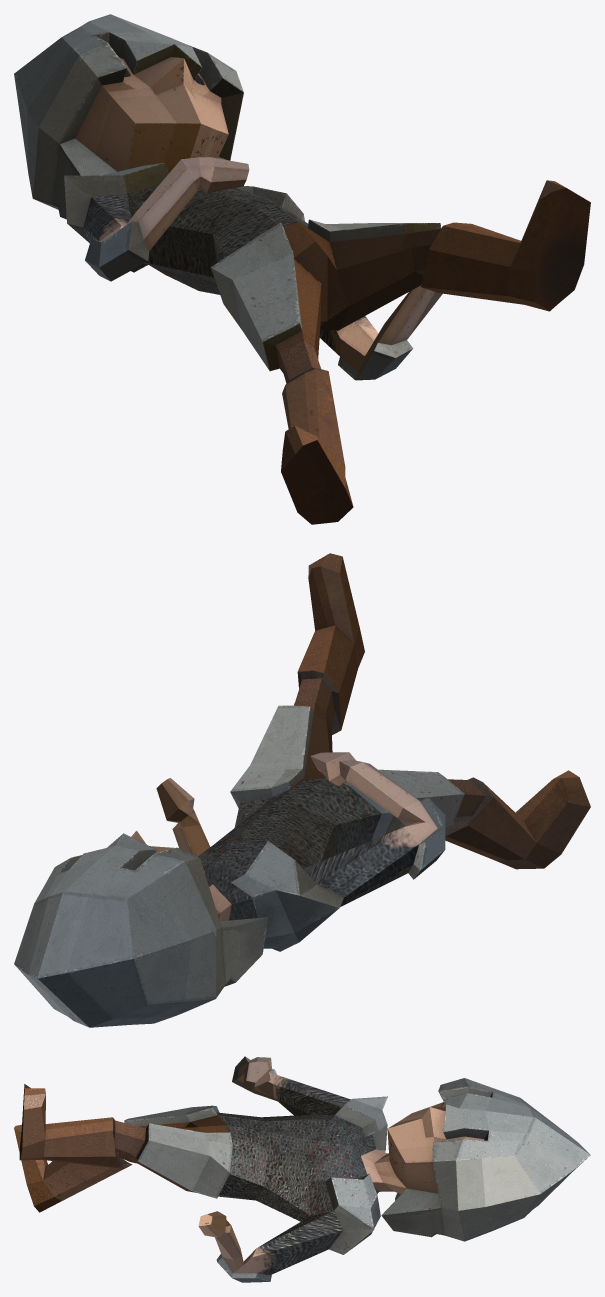
The model's file is Walk_Soldier_17.obj.
The picture shows the model from 3 angles, top to bottom: view 1: azimuth 30°, elevation 25°; view 2: azimuth 150°, elevation 25°; view 3: azimuth 270°, elevation 25°; orthographic projection. The views are drawn at different scales.
Visible parts, largest first — view 1: Soldado_LowPolySTD; view 2: Soldado_LowPolySTD; view 3: Soldado_LowPolySTD.
Part boxes in pixels (<box>): Soldado_LowPolySTD: <box>14,14,590,524</box>; Soldado_LowPolySTD: <box>14,553,590,1027</box>; Soldado_LowPolySTD: <box>14,1056,590,1282</box>.
Size of the model in its own units: 0.7628 by 0.622 by 1.59.
